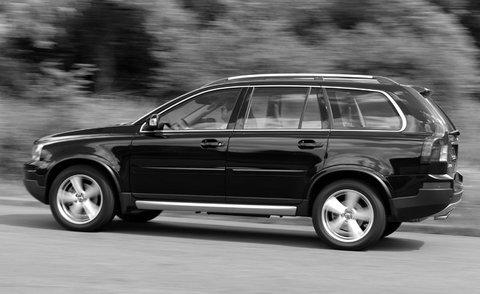car: (23, 72, 466, 253)
